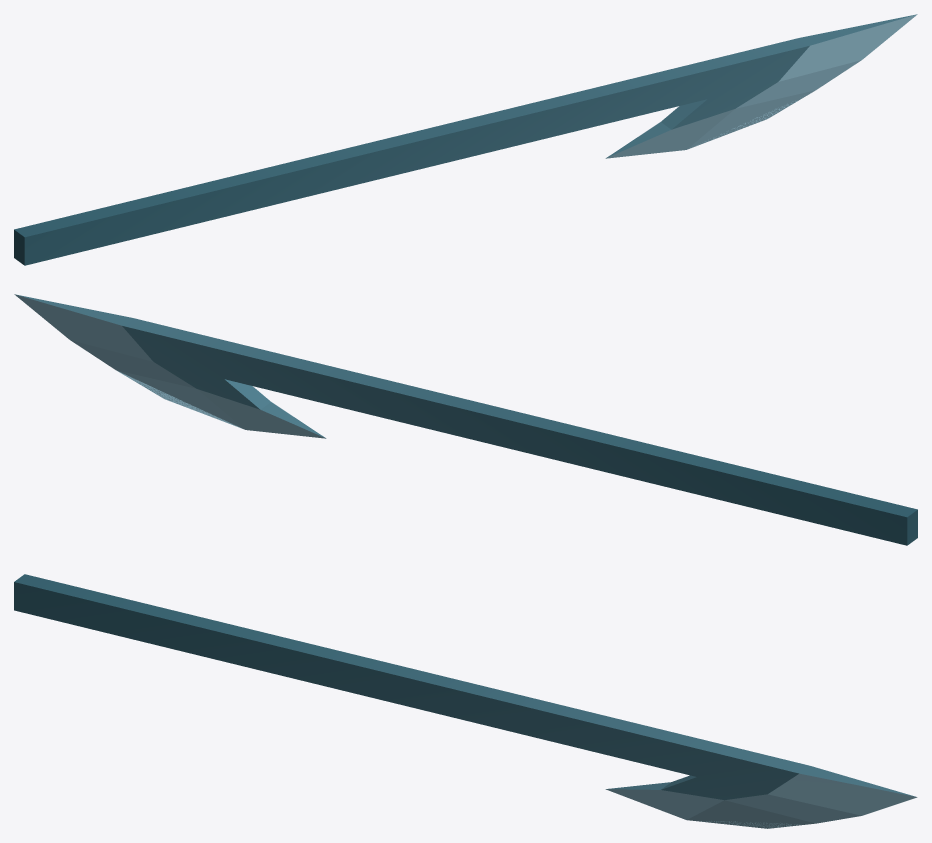
The model's file is Harpoon.fbx.
3 renders of one model, top to bottom at view 1: azimuth 30°, elevation 25°; view 2: azimuth 150°, elevation 25°; view 3: azimuth 330°, elevation 25°, orthographic.
Visible parts, largest first — view 1: Harpoon; view 2: Harpoon; view 3: Harpoon.
Boxes of the visible parts, bbox=[...] form: Harpoon: bbox=[14, 14, 917, 265]; Harpoon: bbox=[14, 294, 917, 545]; Harpoon: bbox=[14, 574, 917, 828].
Bounding box in the file's own units: 456 × 38.45 × 9.44.
